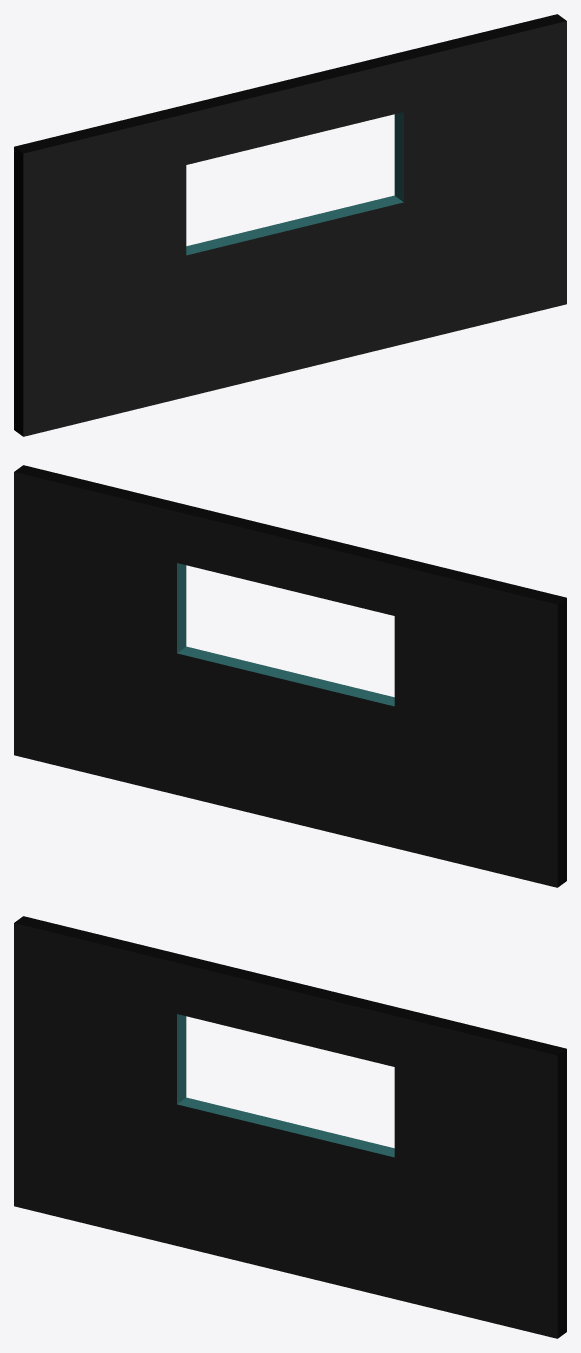
Rendered from Wall_Part_With_Window.dae.
The picture shows the model from 3 angles, top to bottom: view 1: azimuth 30°, elevation 25°; view 2: azimuth 150°, elevation 25°; view 3: azimuth 330°, elevation 25°; orthographic projection.
Parts seen in each view (by area): view 1: SketchUp (×3); view 2: SketchUp (×3); view 3: SketchUp (×3).
Boxes of the visible parts, box(x1,y1,x2,y2) form: SketchUp (×3): box(14, 14, 566, 436); SketchUp (×3): box(14, 465, 566, 887); SketchUp (×3): box(14, 916, 566, 1338).
Bounding box in the file's own units: 197 × 5.91 × 98.03.
